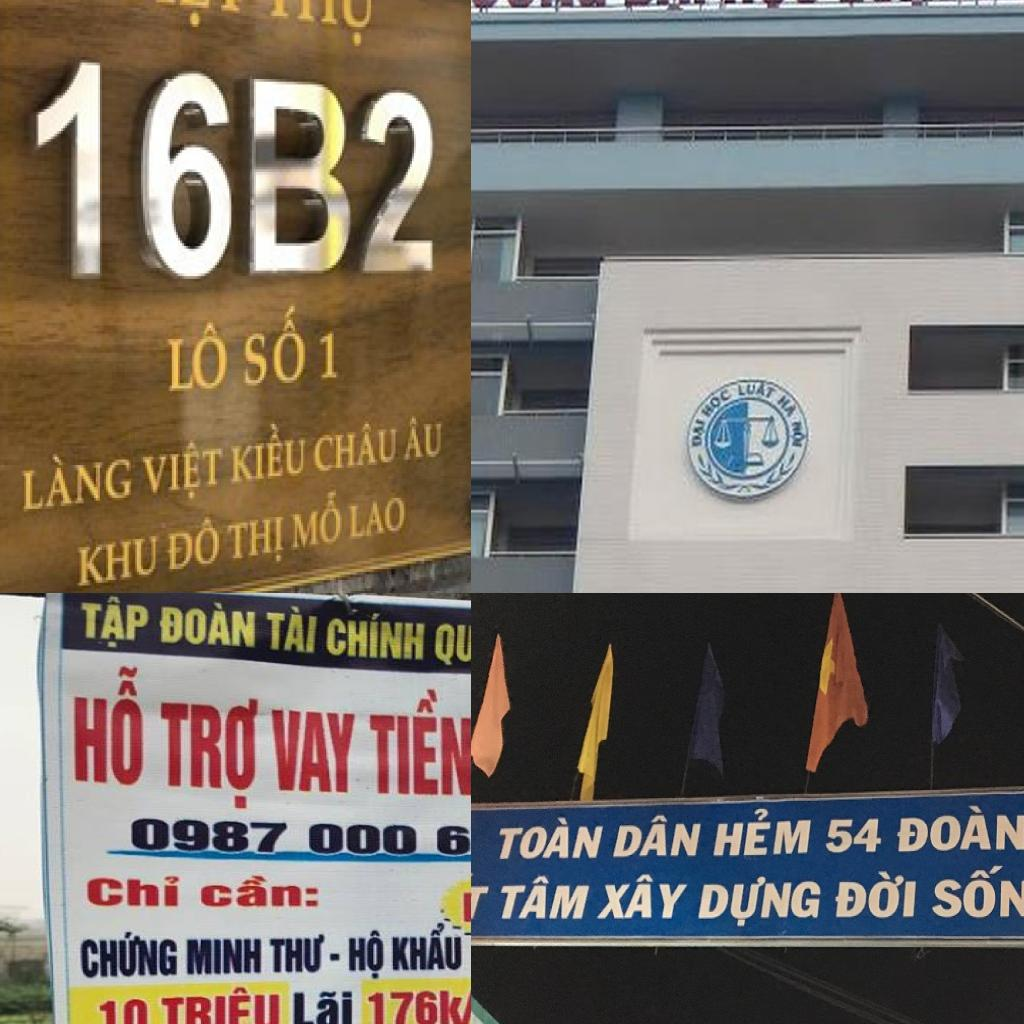text: (242, 60, 362, 292), (135, 54, 235, 298), (28, 46, 123, 298), (352, 71, 447, 284), (156, 691, 266, 814), (364, 684, 471, 798), (63, 659, 148, 792), (268, 706, 363, 802), (20, 440, 137, 514), (696, 874, 826, 931), (135, 435, 229, 512), (891, 803, 1024, 857), (123, 815, 293, 856), (260, 0, 387, 54), (242, 306, 312, 397), (709, 806, 820, 863), (320, 605, 428, 662), (75, 525, 165, 593), (164, 312, 236, 396), (106, 0, 256, 40), (226, 421, 312, 490), (153, 602, 262, 655), (311, 416, 404, 478), (493, 817, 608, 867), (828, 868, 923, 926), (76, 928, 181, 980), (930, 865, 1024, 921), (608, 814, 707, 866), (492, 874, 594, 924), (593, 872, 693, 922), (158, 984, 281, 1024), (74, 593, 152, 652), (298, 819, 417, 857), (192, 876, 324, 910), (225, 506, 289, 575), (389, 922, 470, 974), (80, 871, 187, 910), (291, 487, 348, 558), (363, 986, 464, 1024), (172, 509, 225, 580), (181, 934, 265, 978), (263, 602, 322, 658), (821, 809, 884, 856), (314, 317, 354, 391), (265, 932, 329, 978), (287, 982, 356, 1024), (425, 610, 471, 672), (400, 408, 446, 468), (344, 930, 388, 982), (94, 994, 152, 1024), (471, 871, 499, 929), (426, 822, 471, 857), (694, 383, 734, 421), (734, 377, 780, 404), (685, 412, 709, 452), (773, 390, 801, 423)
